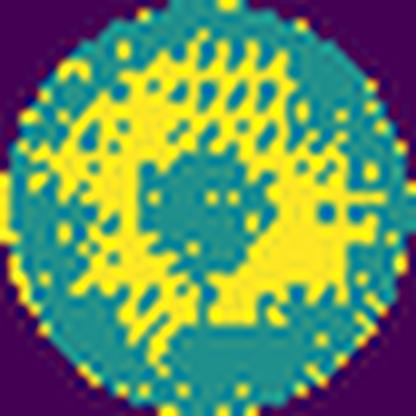Donut: (50, 22, 380, 369)
